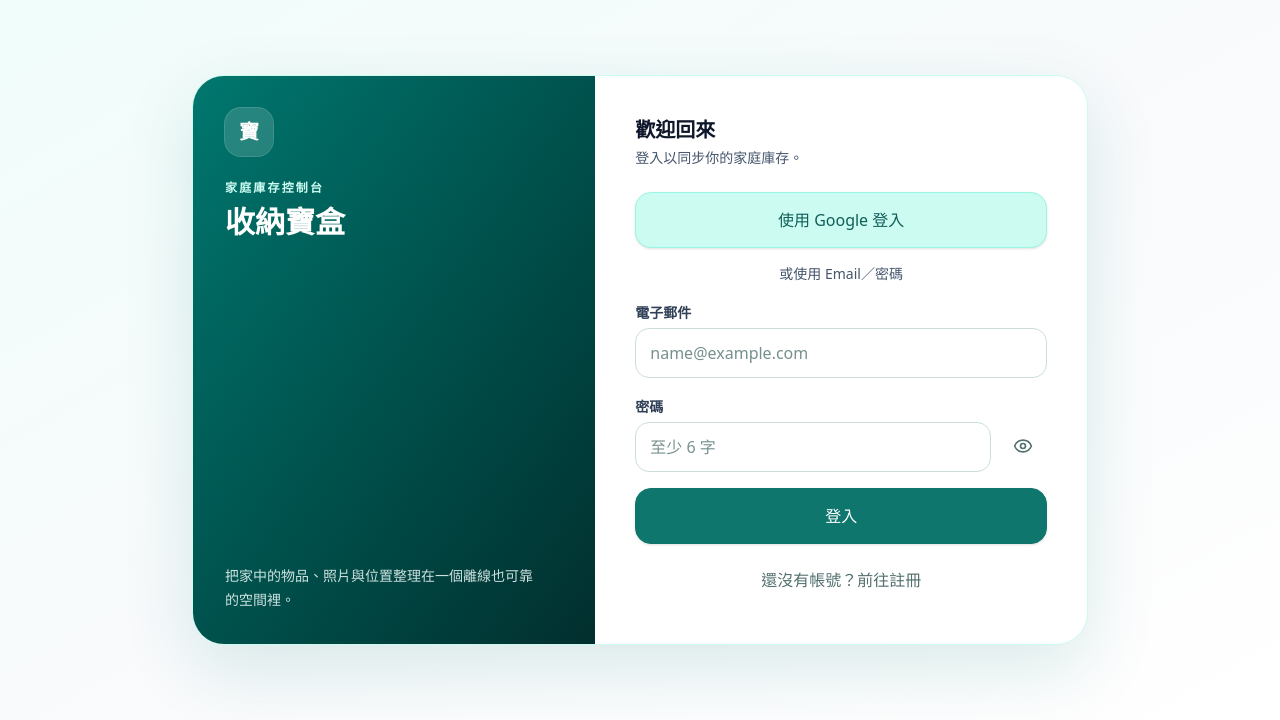
Test: dual login › preserves Email login and specifies an entry URL for signup confirmation
Type "family@example.com" into the field labelled "電子郵件" at (841, 353), box [635,328,1047,378]
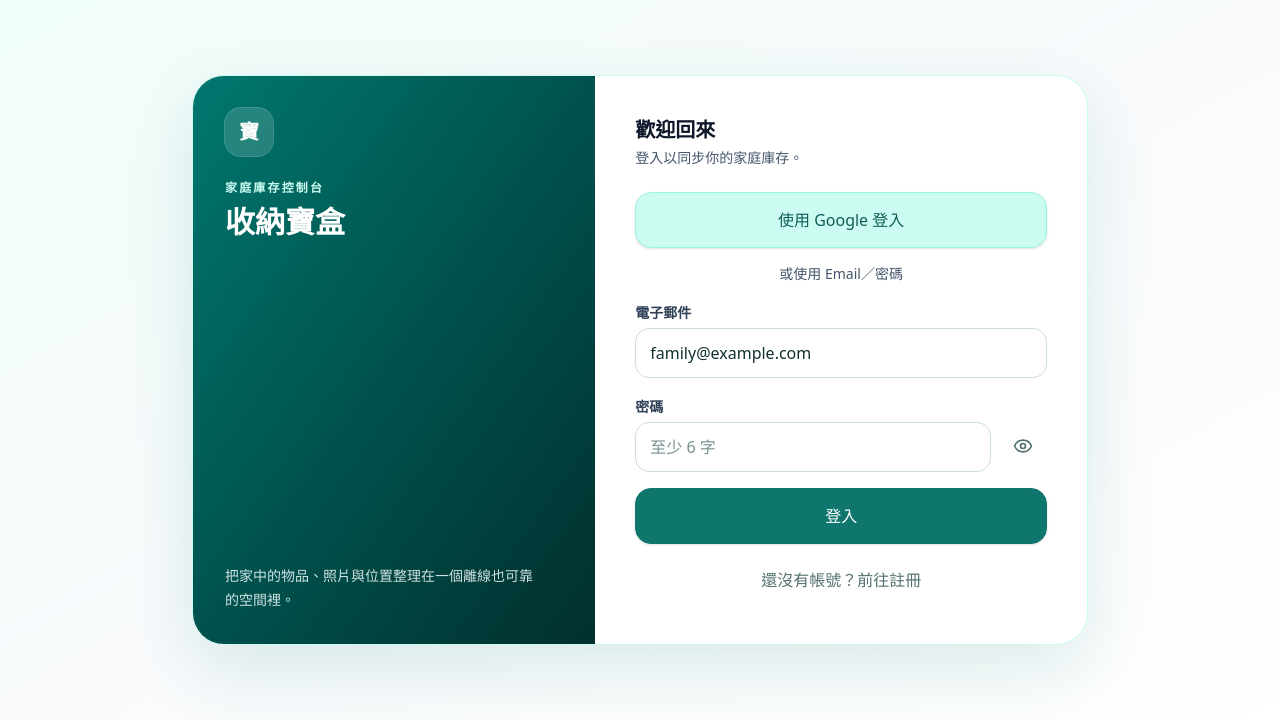
Type "valid-password" into the password field labelled "密碼" at (813, 447), box [635,422,991,472]
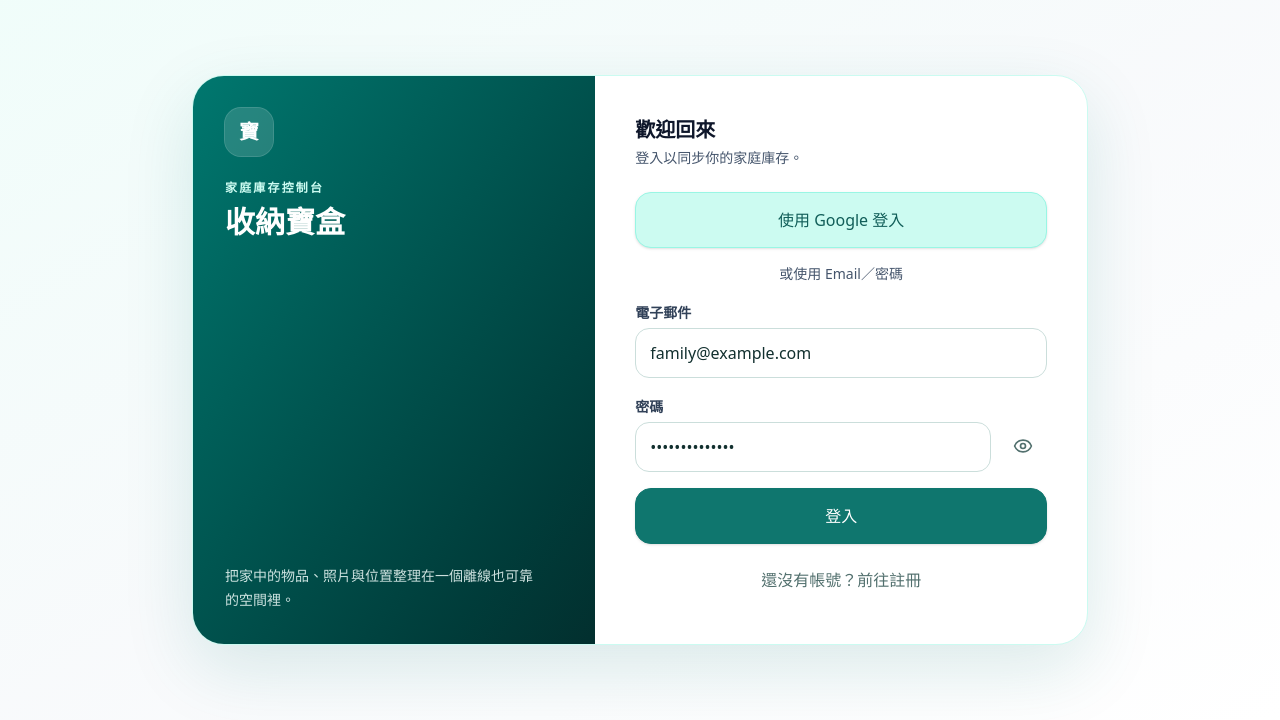
Submit the form labelled "電子郵件", box [635,300,1047,544]
Click the button "還沒有帳號？前往註冊" at (841, 580), box [635,556,1047,604]
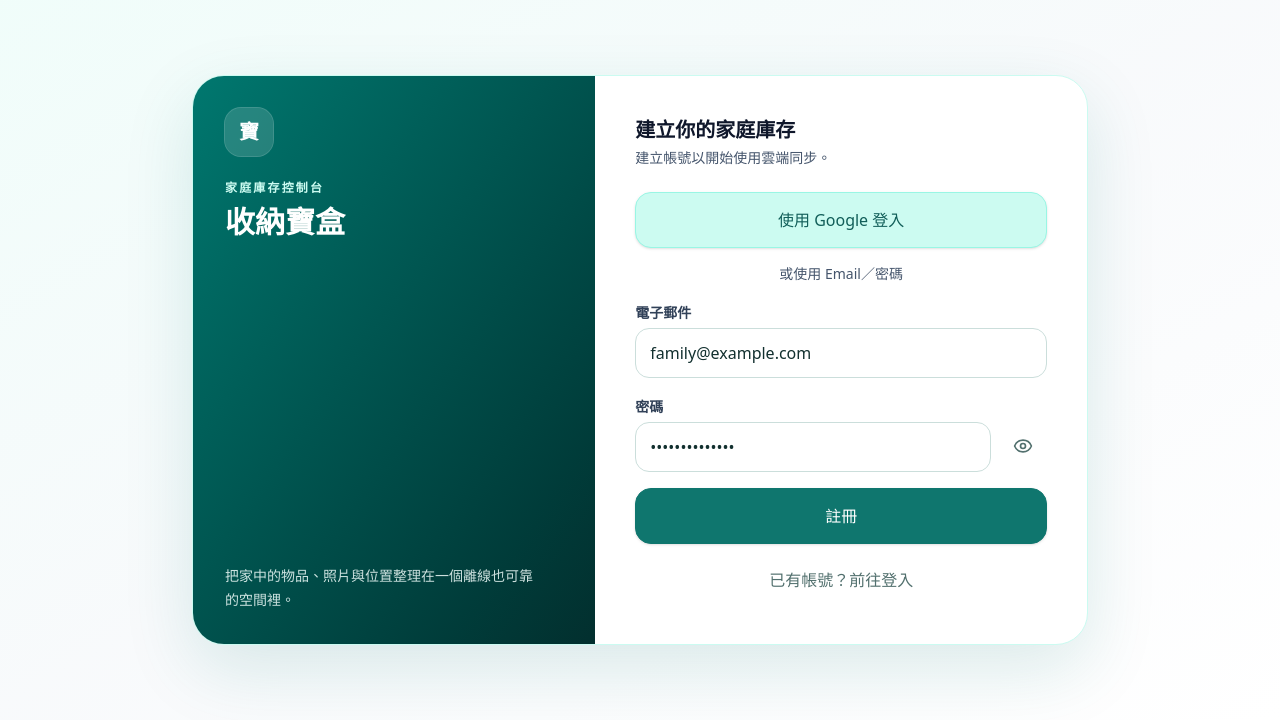
Submit the form labelled "電子郵件", box [635,300,1047,544]
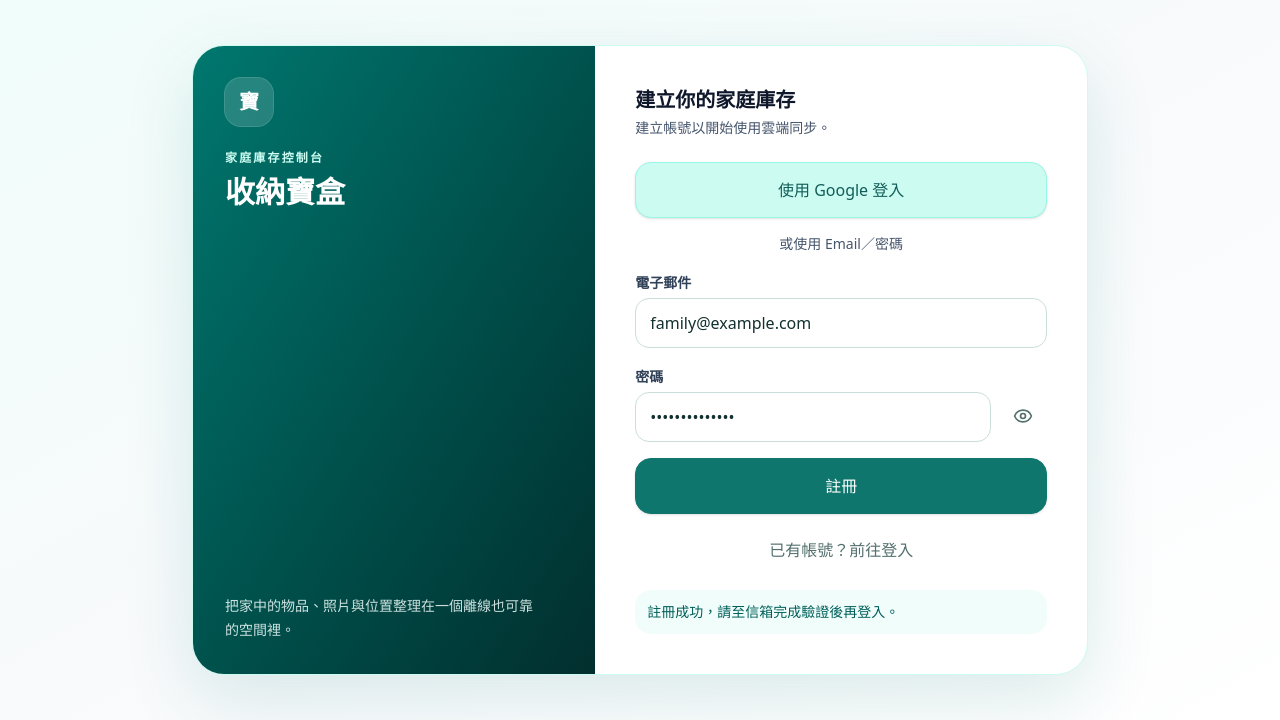
Now the text "註冊成功，請至信箱完成驗證後再登入。" is shown, box [635,590,1047,634]
